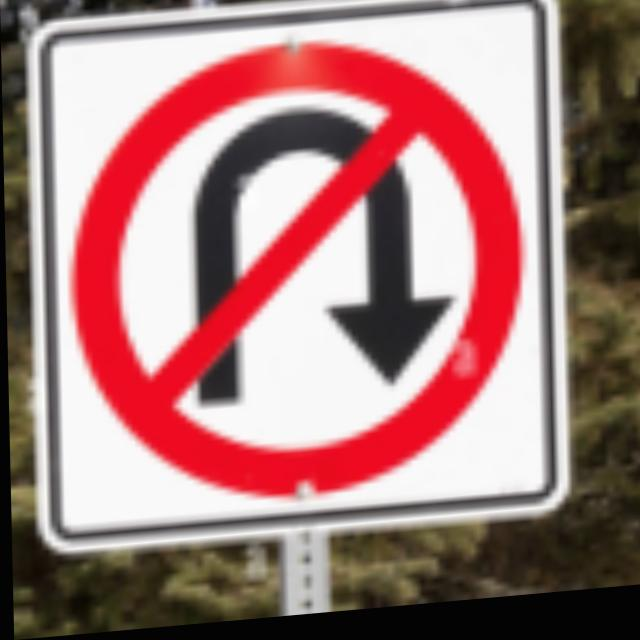not_u_turn_right: (75, 11, 537, 523)
